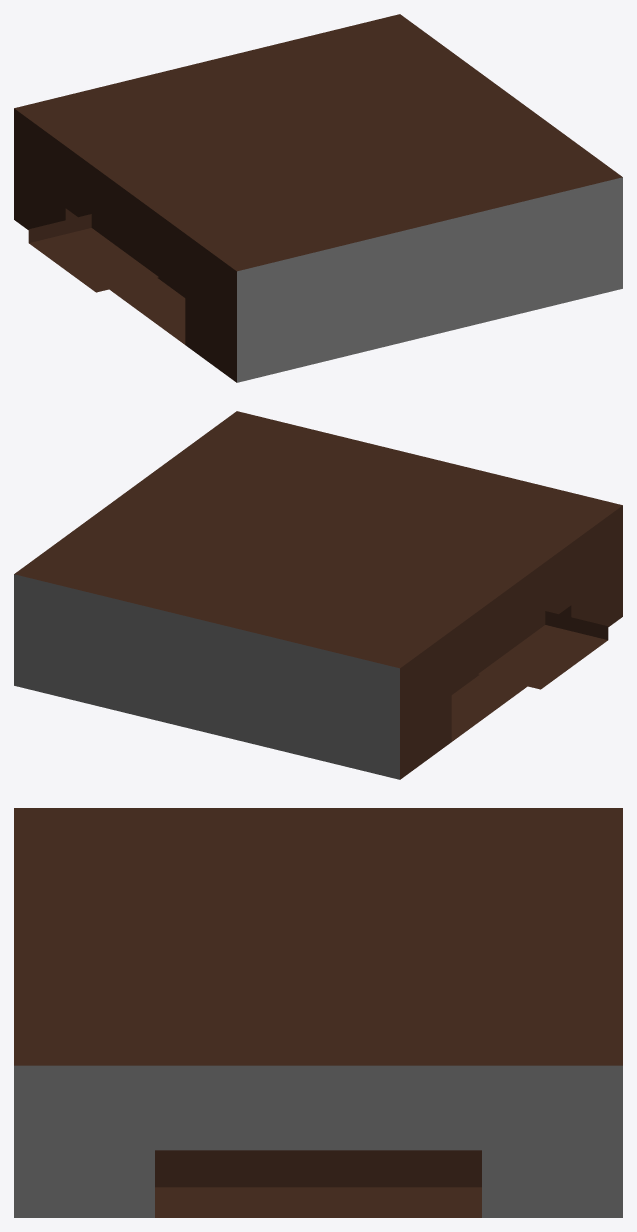
Rendered from gedungkenyamanan.glb.
The picture shows the model from 3 angles, top to bottom: view 1: azimuth 30°, elevation 25°; view 2: azimuth 150°, elevation 25°; view 3: azimuth 270°, elevation 25°; orthographic projection. The views are drawn at different scales.
Visible parts, largest first — view 1: Cube, Cube.001; view 2: Cube, Cube.001; view 3: Cube.
Part boxes in pixels (x1,y1,x2,y2): Cube: [14, 14, 622, 382]; Cube.001: [28, 214, 159, 292]; Cube: [14, 411, 622, 779]; Cube.001: [477, 611, 608, 689]; Cube: [14, 808, 622, 1217].
Size of the model in its own units: 8.43 by 2 by 7.25.
